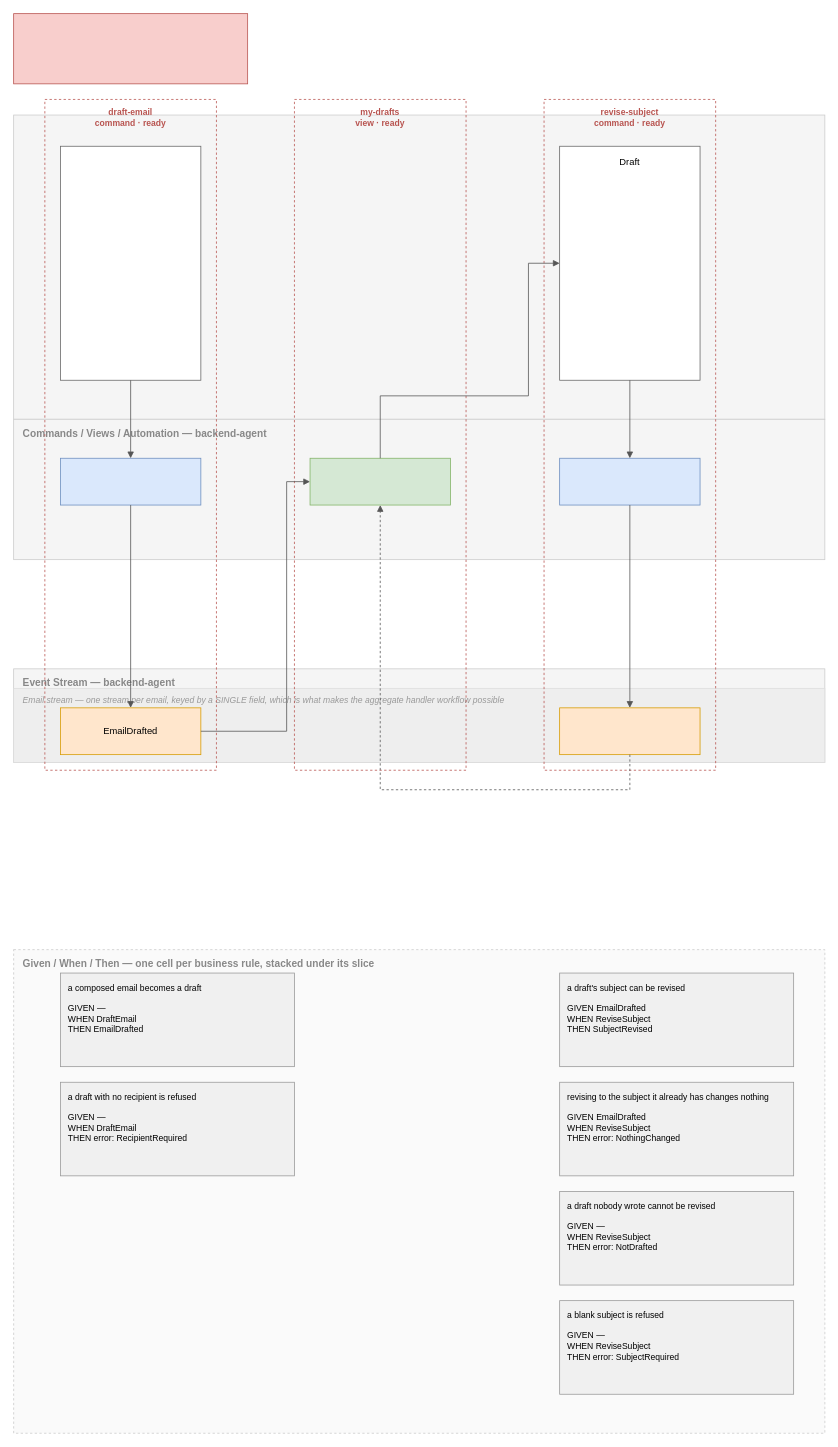
Some shapes in this 838 by 1447 pixel diagram are drawn without their labels. The shapes that lost their labels are listed below. From the top down, each one's centre as x and y in pixels, then its label:
At point (130, 48): "Drafting drafting · context".
At point (130, 262): "Compose".
At point (419, 266): "UI / Wireframes — frontend-agent".
At point (130, 481): "DraftEmail".
At point (379, 481): "MyDrafts".
At point (629, 481): "ReviseSubject".
At point (629, 731): "SubjectRevised".
